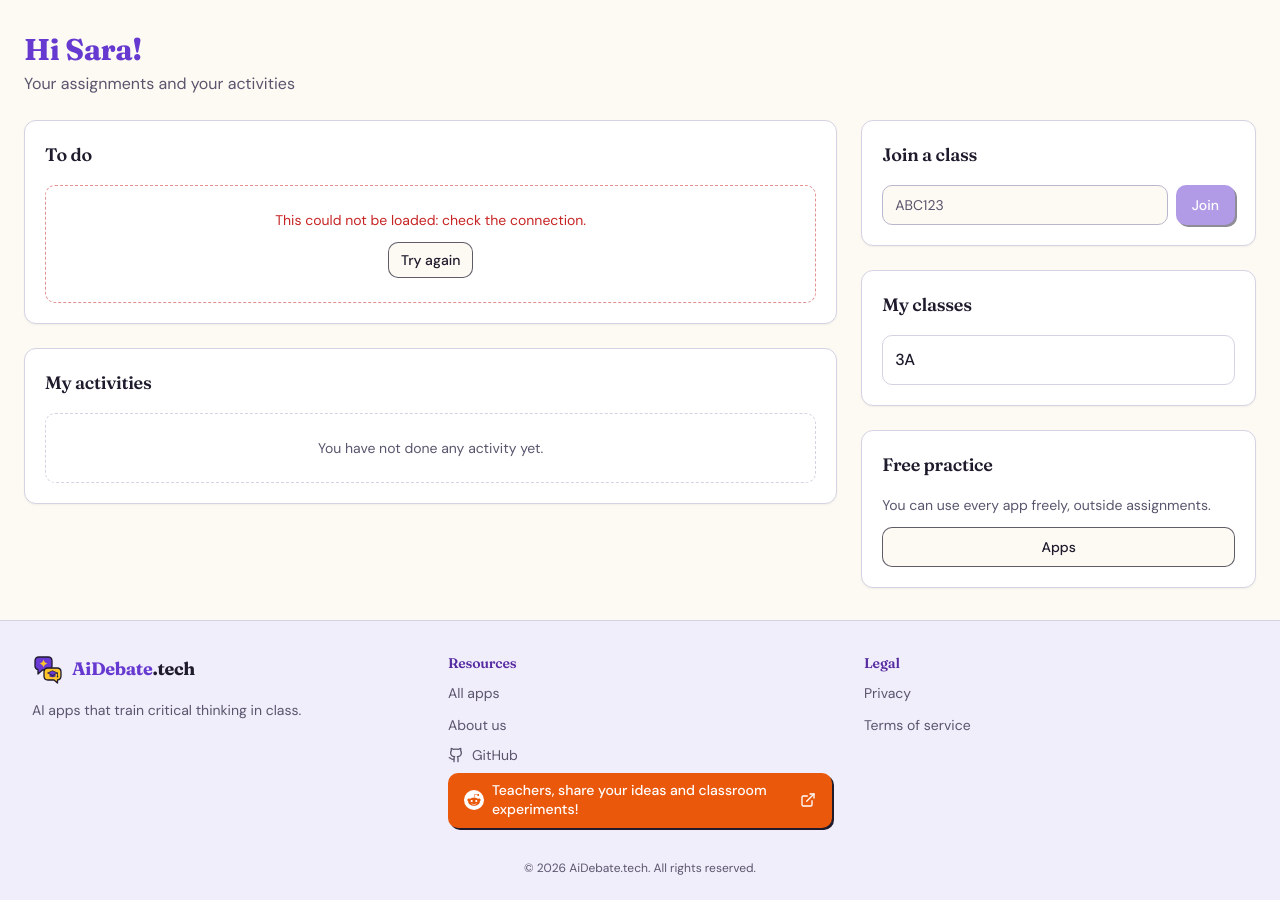
StudentDashboard › tells a failed load from an empty list and retries
The image size is (1280, 900).
Expected: the text "This could not be loaded: check the connection." is shown, [275,210,586,230]
Click the button "Try again" at (431, 260), box [388,242,473,278]
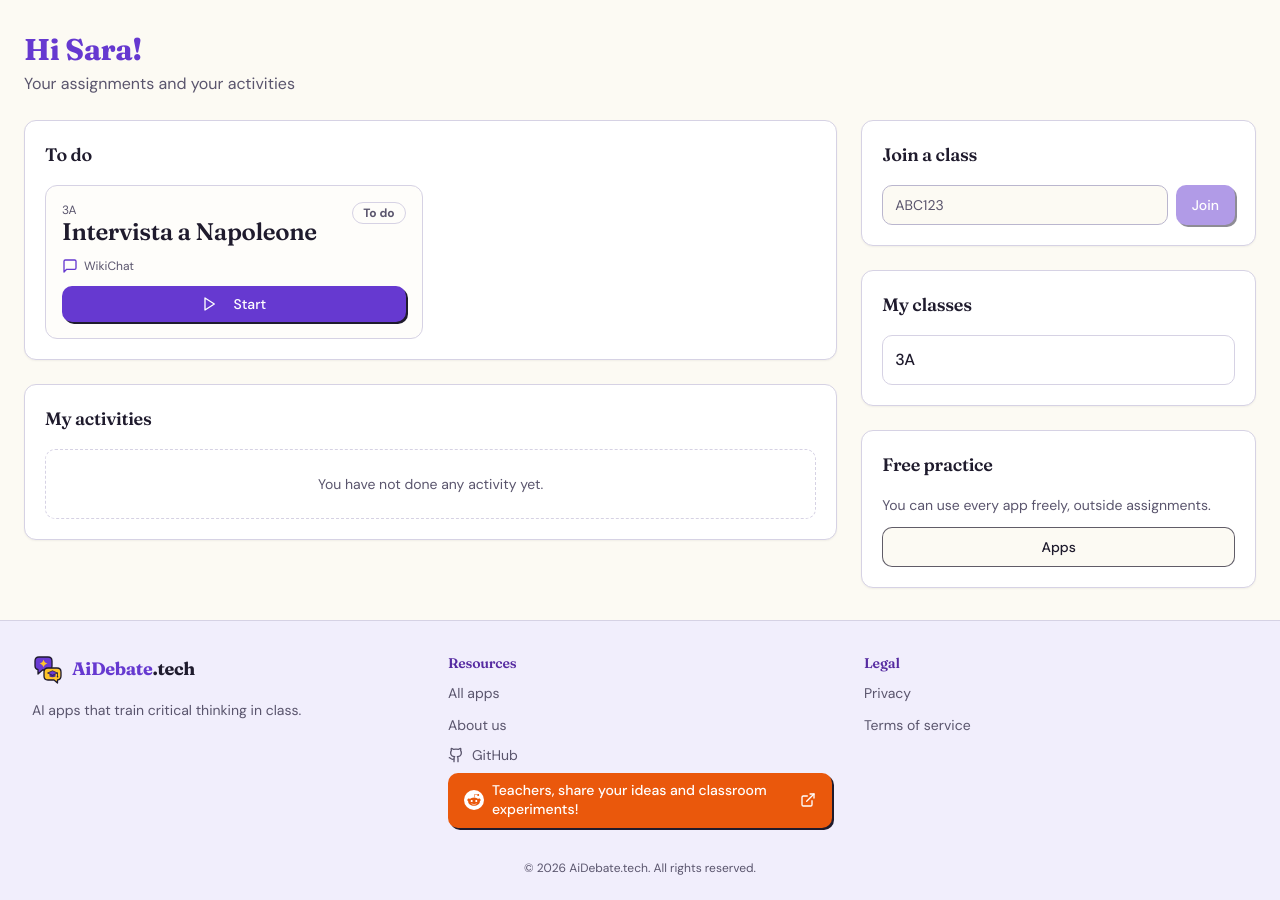
Expected: the heading "Intervista a Napoleone" is shown, [62,218,317,246]
